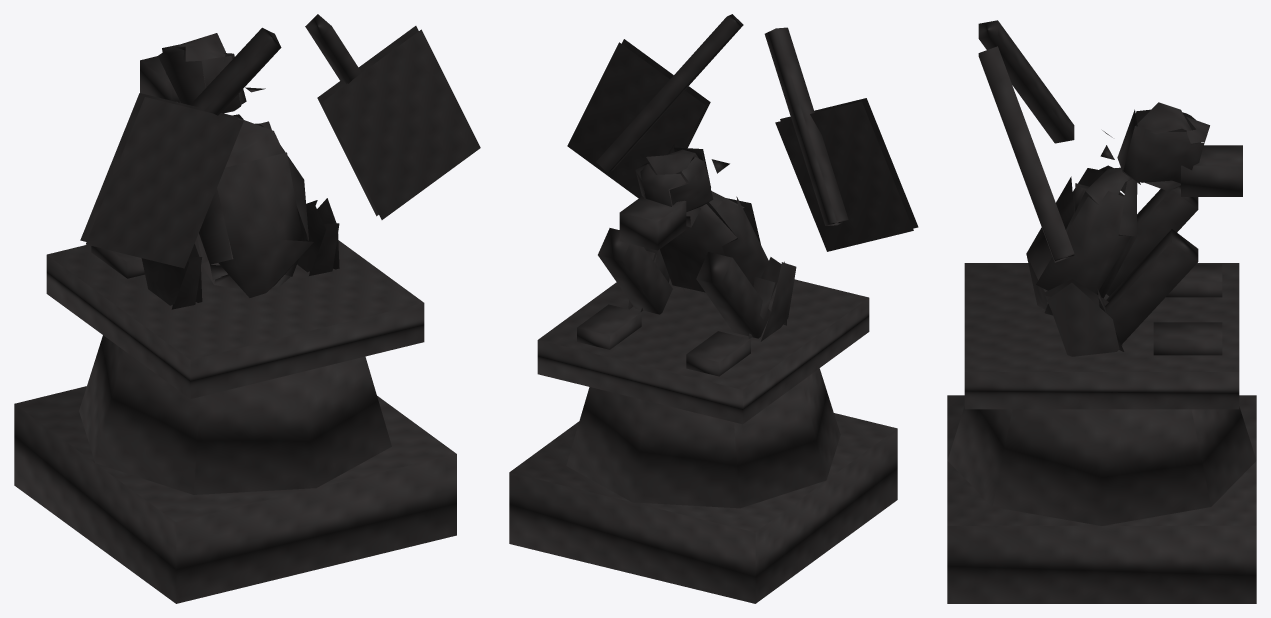
Rendered from Gargoyle_DarkStone_LOD2.glb.
3 views of the same model, side by side, from view 1: azimuth 30°, elevation 25°; view 2: azimuth 150°, elevation 25°; view 3: azimuth 270°, elevation 25° (orthographic). The views are drawn at different scales.
Parts seen in each view (by area): view 1: Gargoyle_DarkStone_LOD2; view 2: Gargoyle_DarkStone_LOD2; view 3: Gargoyle_DarkStone_LOD2.
Part boxes in pixels (x1,y1,x2,y2): Gargoyle_DarkStone_LOD2: (14, 14, 480, 603); Gargoyle_DarkStone_LOD2: (509, 14, 918, 603); Gargoyle_DarkStone_LOD2: (947, 20, 1256, 603).
Size of the model in its own units: 1.27 by 1.62 by 0.9.
1 material, 1 textured.
